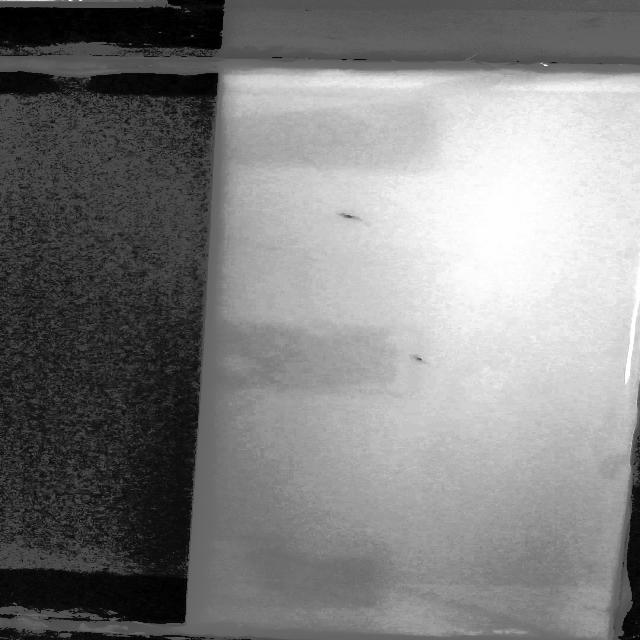shrimp: (324, 208, 367, 225), (406, 353, 429, 368)
